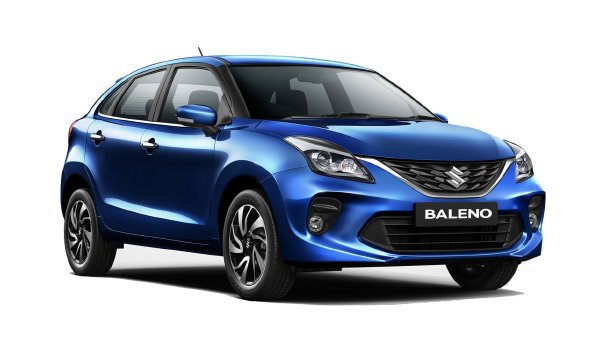car: (61, 46, 545, 298)
